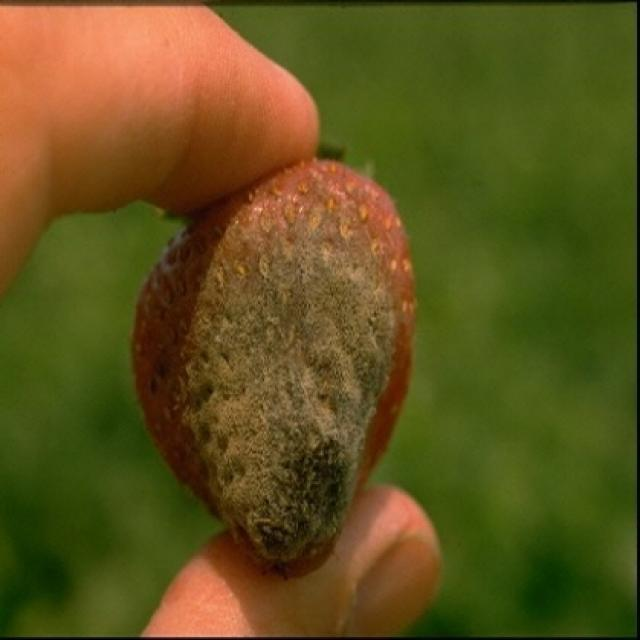Gray Mold: (173, 167, 411, 578)
